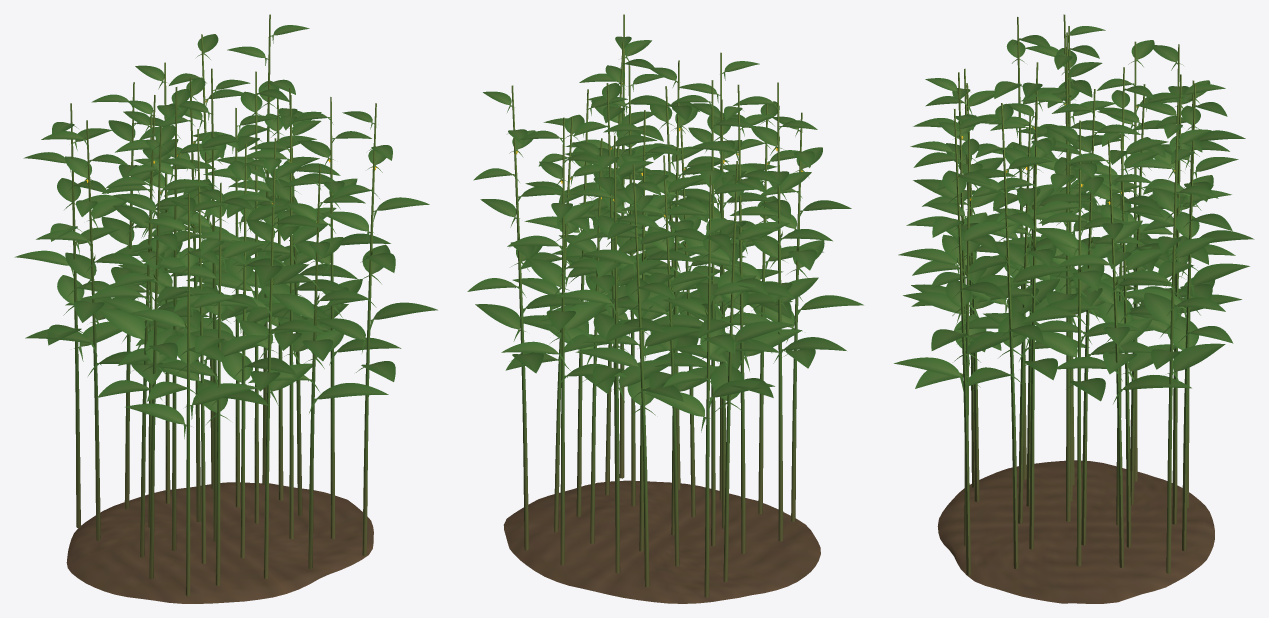
The model's file is jute-stand.glb.
3 views of the same model, side by side, from view 1: azimuth 30°, elevation 25°; view 2: azimuth 150°, elevation 25°; view 3: azimuth 270°, elevation 25° (orthographic). The views are drawn at different scales.
Parts seen in each view (by area): view 1: jute-leaf-upper, stems, soil; view 2: jute-leaf-upper, stems, soil; view 3: jute-leaf-upper, soil, stems.
Boxes of the visible parts, left/top/right/bottom form: jute-leaf-upper: left=14, top=25, right=437, bottom=438; stems: left=70, top=14, right=376, bottom=596; soil: left=66, top=482, right=373, bottom=603; jute-leaf-upper: left=467, top=36, right=863, bottom=432; stems: left=510, top=14, right=802, bottom=597; soil: left=503, top=480, right=820, bottom=603; jute-leaf-upper: left=894, top=26, right=1254, bottom=403; soil: left=937, top=460, right=1214, bottom=603; stems: left=953, top=14, right=1196, bottom=575.
Bounding box in the file's own units: 1.97 × 3 × 1.99.
